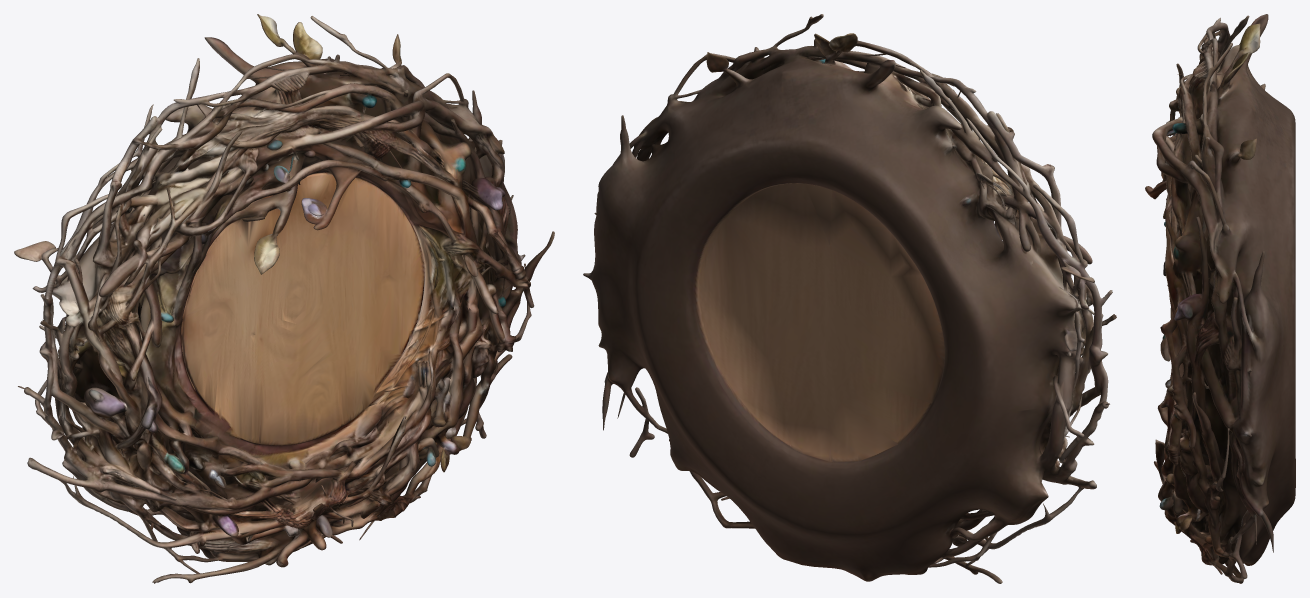
3 views of the same model, side by side, from view 1: azimuth 30°, elevation 25°; view 2: azimuth 150°, elevation 25°; view 3: azimuth 270°, elevation 25° (orthographic). The views are drawn at different scales.
Visible parts, largest first — view 1: tripo_node_23d0f922-17db-42eb-83f9-f5d46ddd66cd; view 2: tripo_node_23d0f922-17db-42eb-83f9-f5d46ddd66cd; view 3: tripo_node_23d0f922-17db-42eb-83f9-f5d46ddd66cd.
Boxes of the visible parts, x1,y1,x2,y2 form: tripo_node_23d0f922-17db-42eb-83f9-f5d46ddd66cd: (14,14,554,583); tripo_node_23d0f922-17db-42eb-83f9-f5d46ddd66cd: (583,14,1116,583); tripo_node_23d0f922-17db-42eb-83f9-f5d46ddd66cd: (1145,14,1295,583).
Bounding box in the file's own units: 0.978 × 0.9737 × 0.2602.
Materials: 1 (1 with a texture image).
